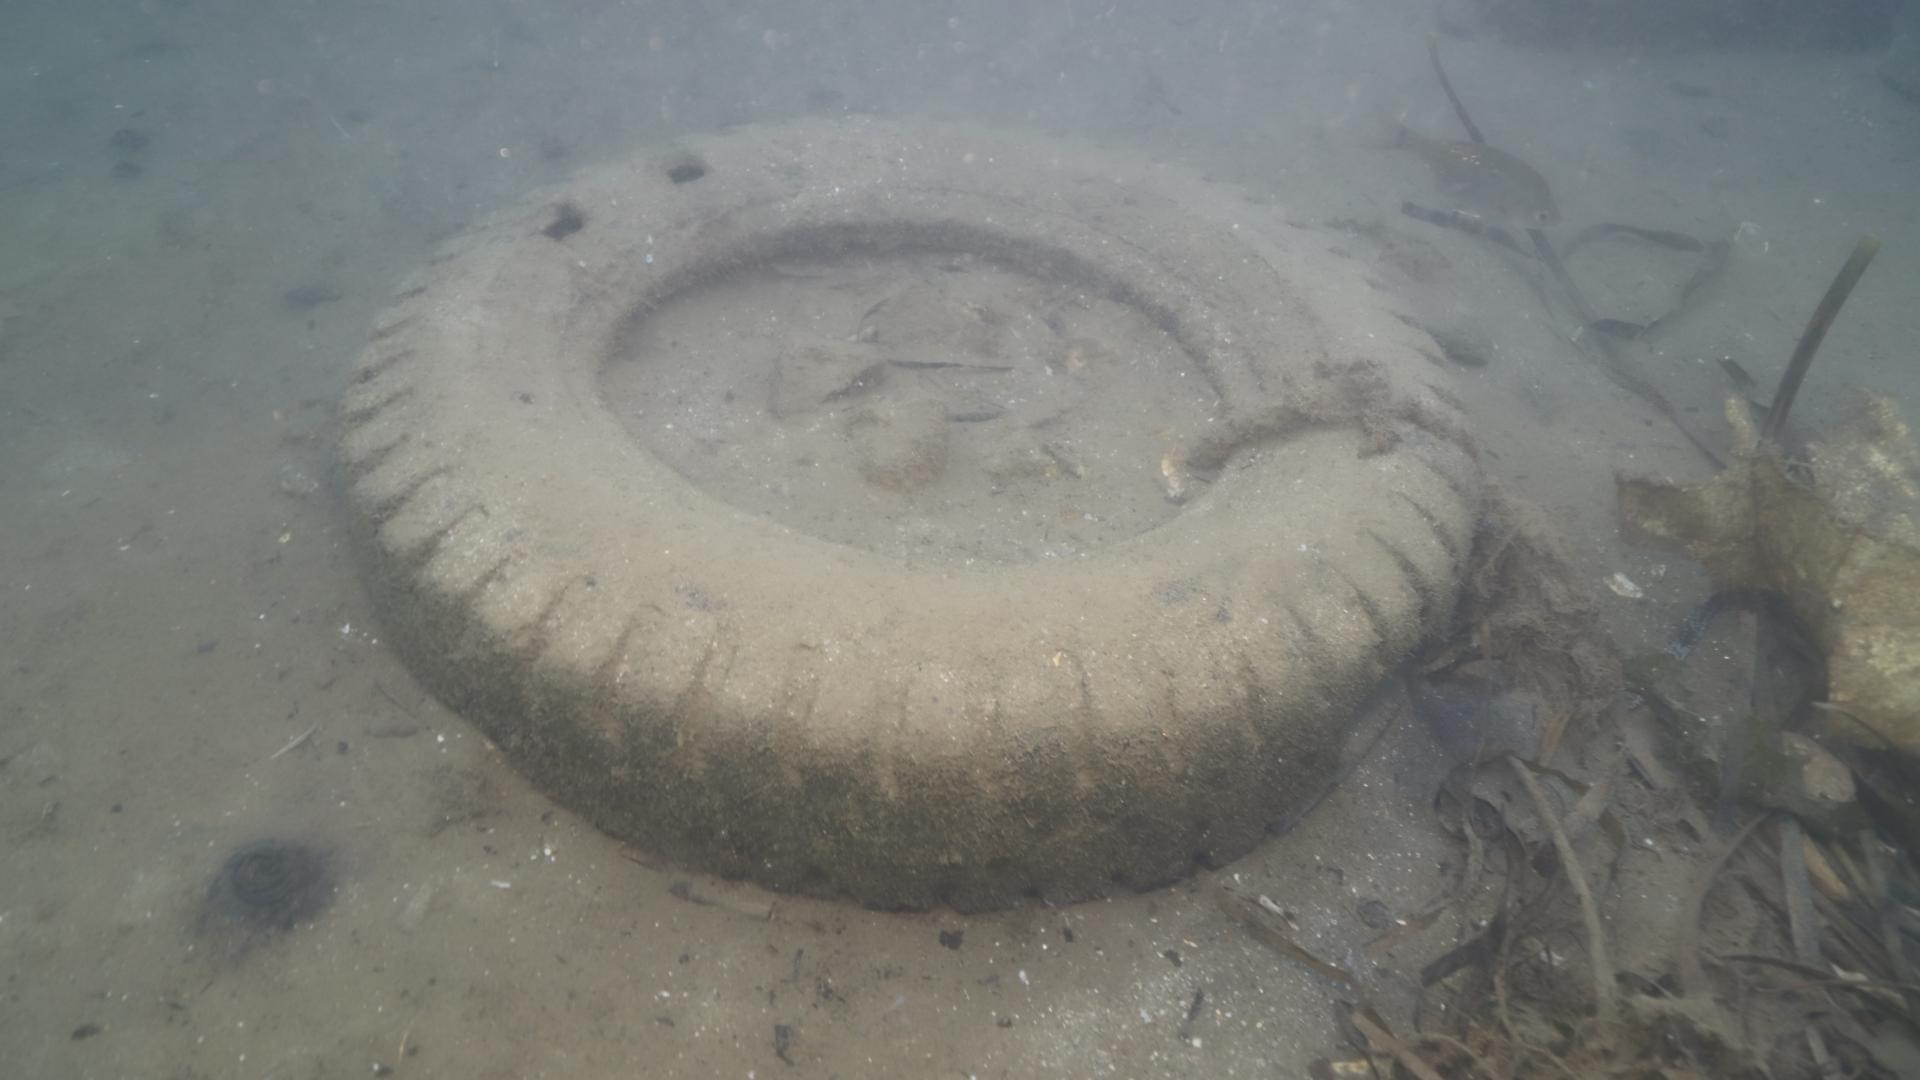bundle of ropes: (1174, 357, 1489, 480)
tire: (334, 100, 1476, 909)
